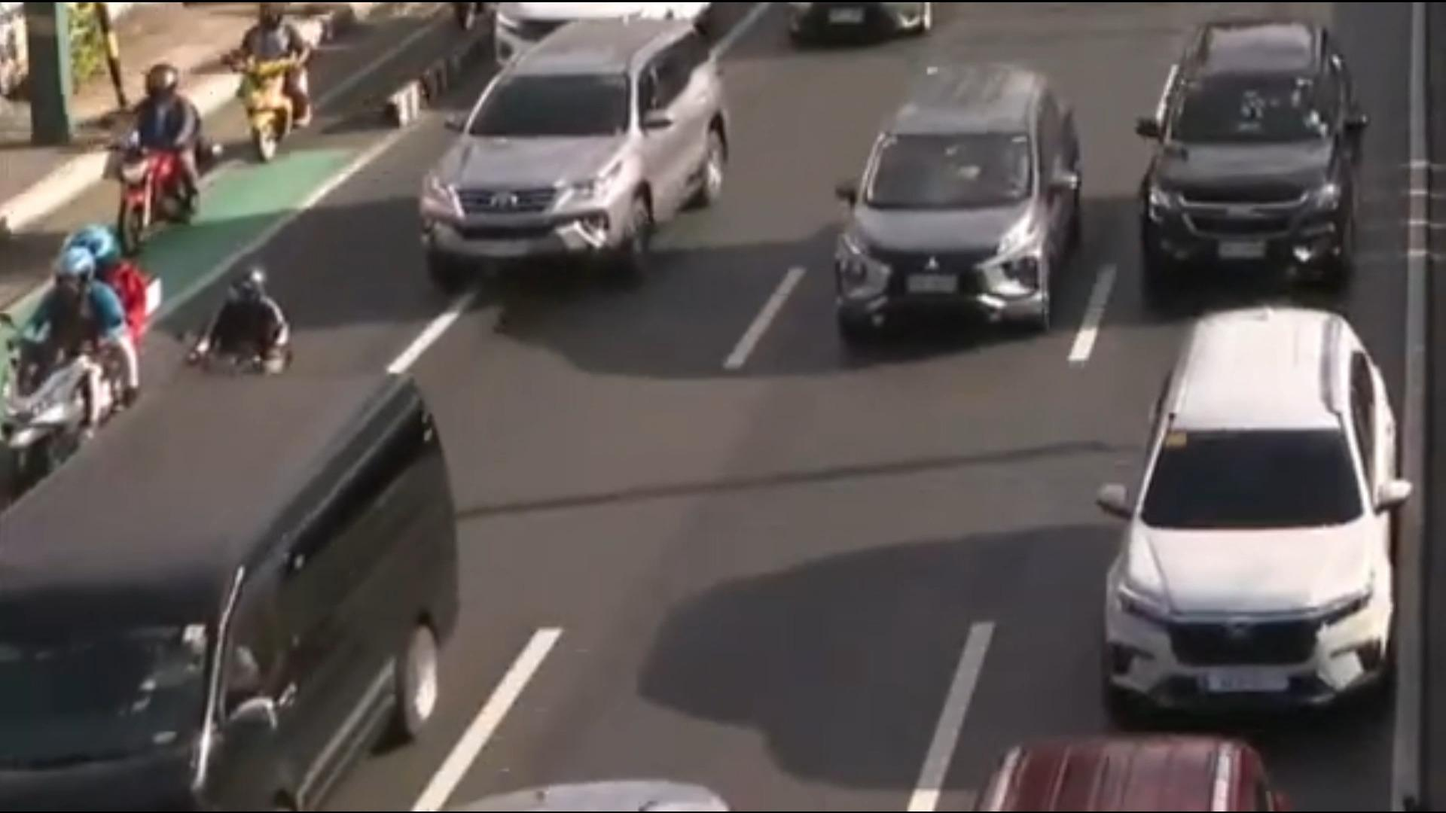Motorcycle: (0, 219, 175, 491), (104, 66, 245, 253), (227, 0, 334, 203), (198, 251, 313, 392)
SUV: (1042, 313, 1431, 743), (389, 0, 769, 330), (814, 30, 1096, 356), (1107, 8, 1394, 312)
Van: (0, 350, 480, 813)
